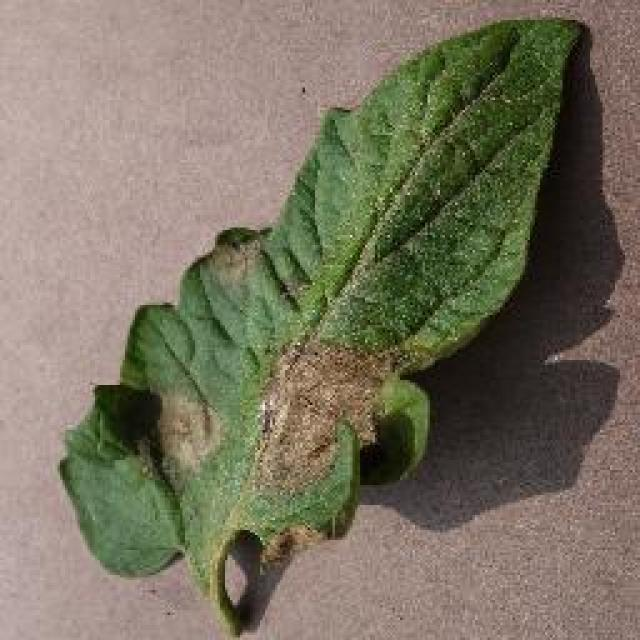Tomato___Late_blight: (58, 20, 582, 638)
